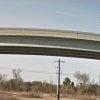Bridge: (3, 20, 97, 64)
